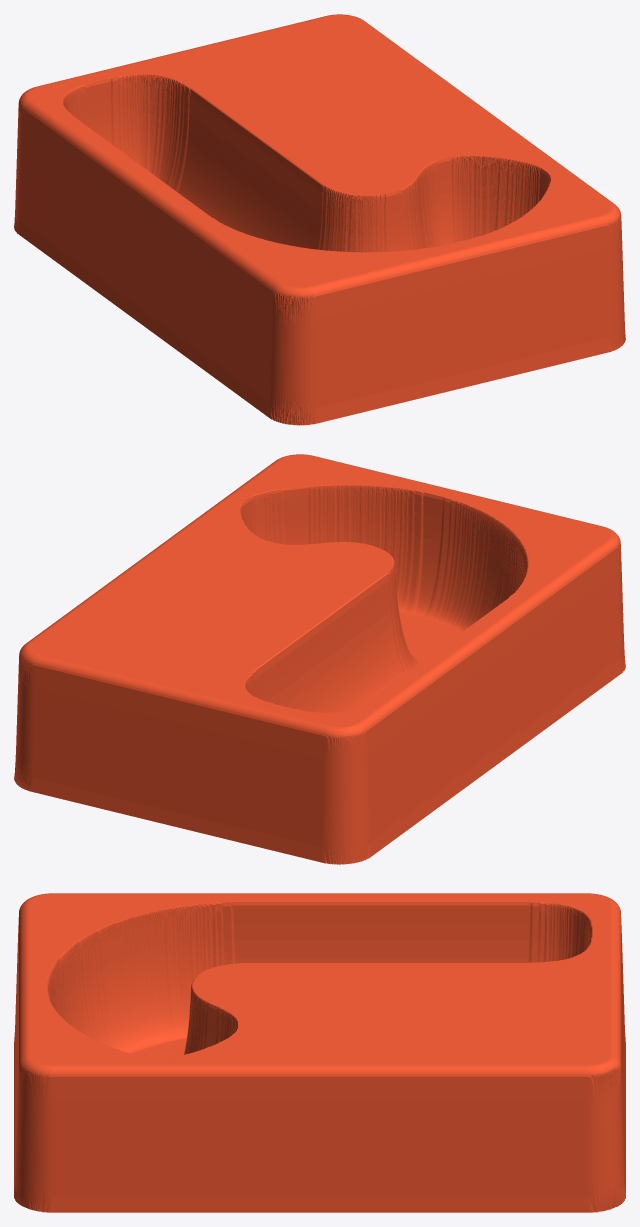
File: mold.glb
3 renders of one model, top to bottom at view 1: azimuth 30°, elevation 25°; view 2: azimuth 150°, elevation 25°; view 3: azimuth 270°, elevation 25°, orthographic. The views are drawn at different scales.
Visible parts, largest first — view 1: geometry_0; view 2: geometry_0; view 3: geometry_0.
Part boxes in pixels (bbox=[...]): geometry_0: bbox=[14, 14, 625, 425]; geometry_0: bbox=[14, 454, 625, 864]; geometry_0: bbox=[14, 893, 625, 1212].
Size of the model in its own units: 0.1019 by 0.0365 by 0.1435.
